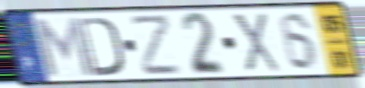2: (179, 9, 227, 79)
6: (277, 11, 321, 72)
D: (76, 15, 125, 79)
M: (30, 15, 97, 79)
X: (229, 11, 283, 74)
Z: (128, 12, 183, 78)
